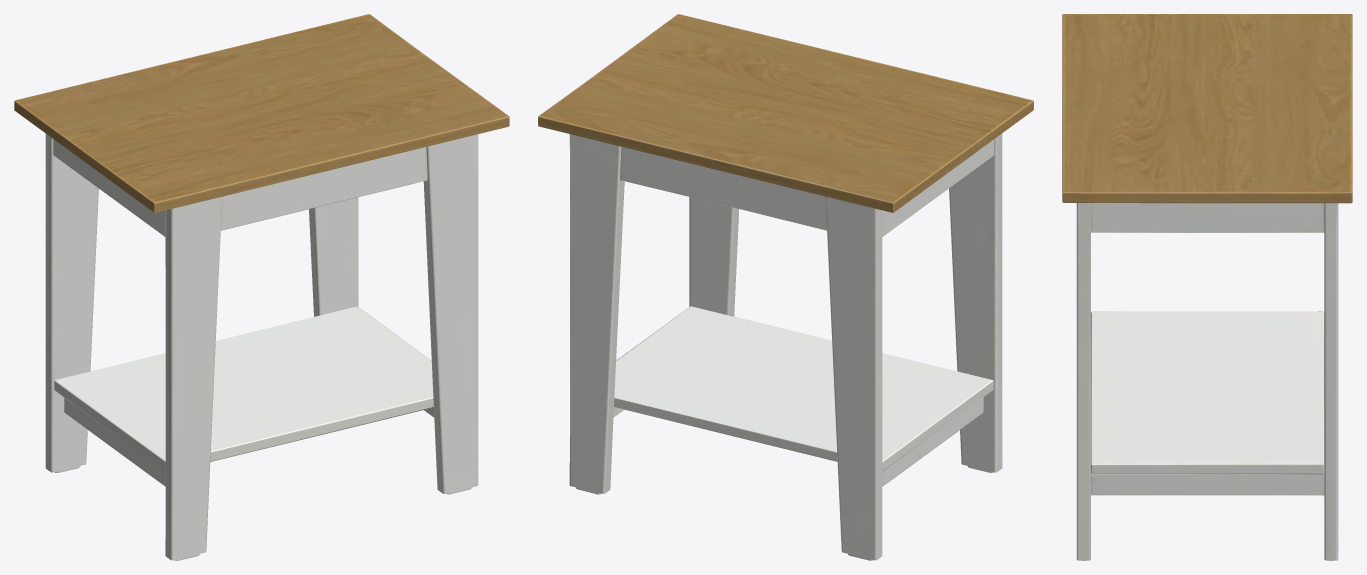
3 views of the same model, side by side, from view 1: azimuth 30°, elevation 25°; view 2: azimuth 150°, elevation 25°; view 3: azimuth 270°, elevation 25° (orthographic). The views are drawn at different scales.
Parts seen in each view (by area): view 1: ASY_ART_80609126_S01_NV01; view 2: ASY_ART_80609126_S01_NV01; view 3: ASY_ART_80609126_S01_NV01.
Part boxes in pixels (box(x1,y1,x2,y2)): ASY_ART_80609126_S01_NV01: box(14, 14, 509, 560); ASY_ART_80609126_S01_NV01: box(538, 14, 1033, 560); ASY_ART_80609126_S01_NV01: box(1062, 14, 1352, 560).
Size of the model in its own units: 0.585 by 0.5833 by 0.4001.
1 material, 1 textured.
